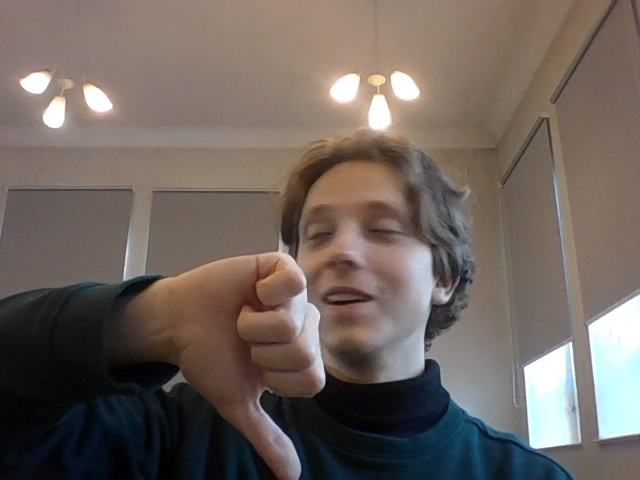no: (166, 236, 339, 478)
